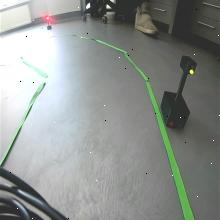green: (180, 55, 198, 76)
